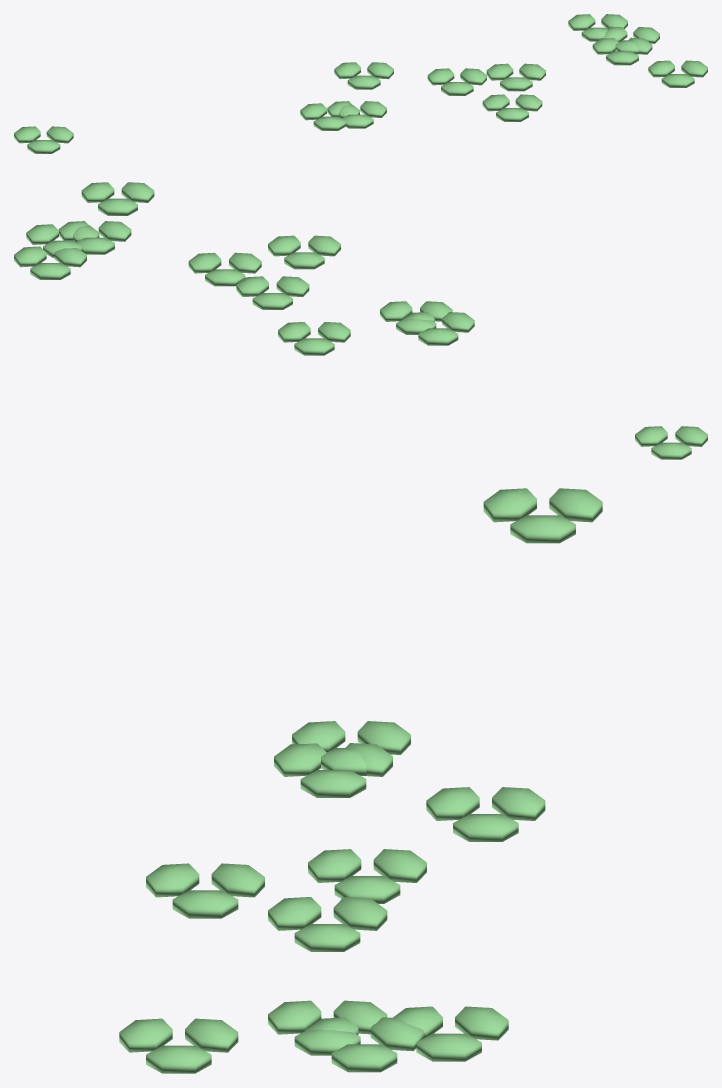
The model's file is layer_summer_edge_low.glb.
3 renders of one model, top to bottom at view 1: azimuth 30°, elevation 25°; view 2: azimuth 150°, elevation 25°; view 3: azimuth 270°, elevation 25°, orthographic. The views are drawn at different scales.
Bounding box in the file's own units: 2.15 × 0.035 × 0.7647.
